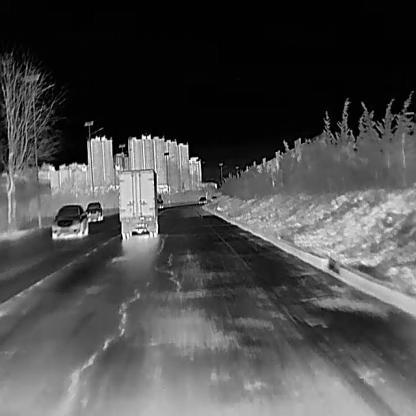car: (116, 167, 160, 238), (51, 204, 88, 239), (85, 201, 103, 221), (198, 195, 207, 203), (156, 198, 163, 207), (210, 194, 216, 201)
